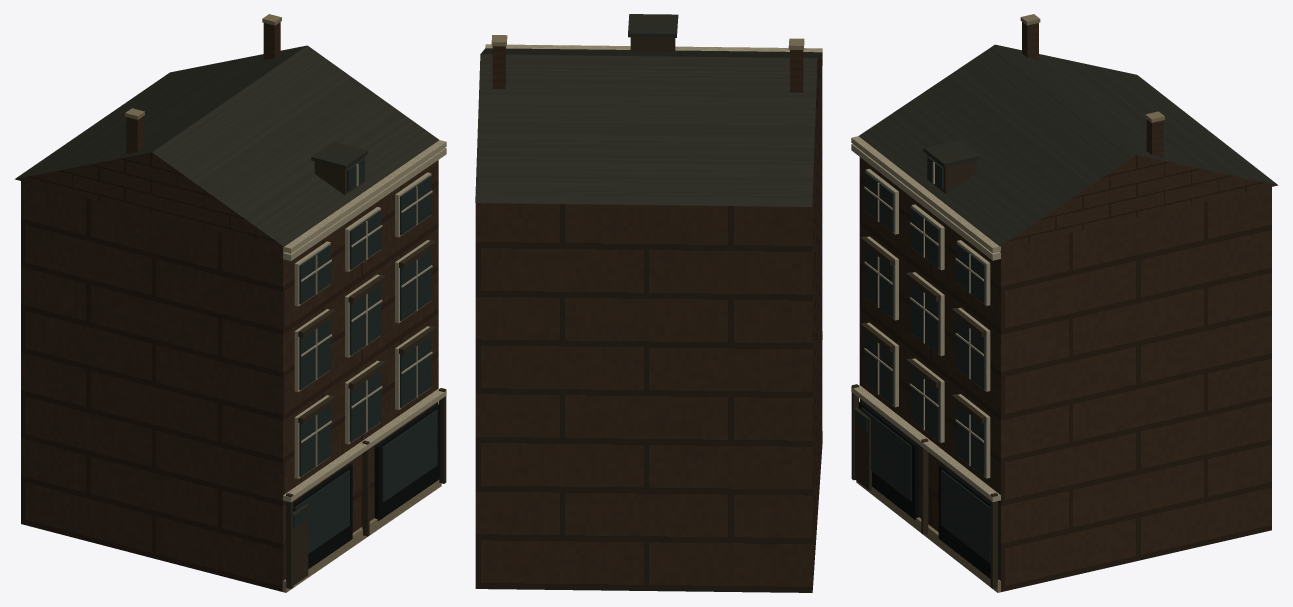
3 views of the same model, side by side, from view 1: azimuth 30°, elevation 25°; view 2: azimuth 150°, elevation 25°; view 3: azimuth 270°, elevation 25° (orthographic). The views are drawn at different scales.
Parts seen in each view (by area): view 1: haringvliet91-0, haringvliet91-1, haringvliet91-3, haringvliet91-2, haringvliet91-4, haringvliet91-6, haringvliet91-5; view 2: haringvliet91-0, haringvliet91-1, haringvliet91-2, haringvliet91-4; view 3: haringvliet91-0, haringvliet91-1, haringvliet91-3, haringvliet91-2, haringvliet91-4, haringvliet91-6, haringvliet91-5.
Boxes of the visible parts, x1=… form: haringvliet91-0: x1=15, y1=22, x2=438, y2=591; haringvliet91-1: x1=15, y1=45, x2=438, y2=246; haringvliet91-3: x1=293, y1=158, x2=437, y2=553; haringvliet91-2: x1=283, y1=140, x2=446, y2=502; haringvliet91-4: x1=286, y1=156, x2=446, y2=588; haringvliet91-6: x1=293, y1=404, x2=440, y2=568; haringvliet91-5: x1=125, y1=14, x2=441, y2=592; haringvliet91-0: x1=475, y1=46, x2=822, y2=592; haringvliet91-1: x1=475, y1=14, x2=821, y2=206; haringvliet91-2: x1=485, y1=44, x2=822, y2=339; haringvliet91-4: x1=630, y1=37, x2=675, y2=52; haringvliet91-0: x1=859, y1=22, x2=1277, y2=591; haringvliet91-1: x1=859, y1=44, x2=1277, y2=246; haringvliet91-3: x1=854, y1=156, x2=990, y2=563; haringvliet91-2: x1=851, y1=136, x2=1000, y2=501; haringvliet91-4: x1=851, y1=154, x2=997, y2=588; haringvliet91-6: x1=858, y1=401, x2=998, y2=579; haringvliet91-5: x1=856, y1=14, x2=1164, y2=592.
Bounding box in the file's own units: 13.51 × 15.52 × 13.87.
7 materials, 7 textured.
